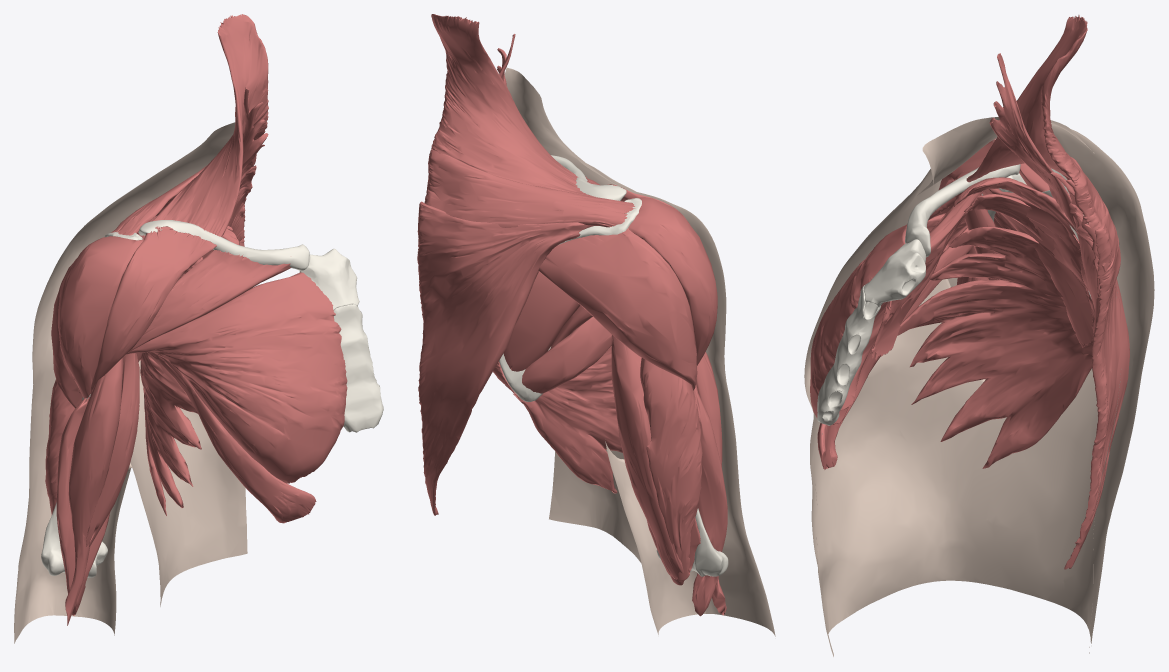
The model's file is shoulder-right.c07667bede.glb.
3 renders of one model, left to right at view 1: azimuth 30°, elevation 25°; view 2: azimuth 150°, elevation 25°; view 3: azimuth 270°, elevation 25°, orthographic. The views are drawn at different scales.
Visible parts, largest first — view 1: skin, sternocostal_part_of_right_pectoralis_major, descending_part_of_right_trapezius, clavicular_part_of_right_deltoid, acromial_part_of_right_deltoid, long_head_of_right_biceps_brachii, right_serratus_anterior, clavicular_part_of_right_pectoralis_major, abdominal_part_of_right_pectoralis_major, body_of_sternum, short_head_of_right_biceps_brachii, right_brachialis (+8 smaller); view 2: ascending_part_of_right_trapezius, skin, spinal_part_of_right_deltoid, descending_part_of_right_trapezius, transverse_part_of_right_trapezius, lateral_head_of_right_triceps_brachii, right_serratus_anterior, acromial_part_of_right_deltoid, long_head_of_right_triceps_brachii, right_infraspinatus_muscle, right_brachialis, right_teres_major (+5 smaller); view 3: skin, right_serratus_anterior, ascending_part_of_right_trapezius, sternocostal_part_of_right_pectoralis_major, descending_part_of_right_trapezius, right_subscapularis, body_of_sternum, right_levator_scapulae, right_pectoralis_minor, manubrium, abdominal_part_of_right_pectoralis_major, right_clavicle (+4 smaller).
Part boxes in pixels (x1,y1,x2,y2): skin: [14, 122, 247, 643]; sternocostal_part_of_right_pectoralis_major: [126, 272, 347, 483]; descending_part_of_right_trapezius: [152, 14, 268, 236]; clavicular_part_of_right_deltoid: [90, 226, 216, 395]; acromial_part_of_right_deltoid: [58, 236, 143, 398]; long_head_of_right_biceps_brachii: [65, 358, 123, 625]; right_serratus_anterior: [140, 226, 240, 515]; clavicular_part_of_right_pectoralis_major: [128, 250, 290, 352]; abdominal_part_of_right_pectoralis_major: [147, 351, 316, 523]; body_of_sternum: [333, 304, 383, 432]; short_head_of_right_biceps_brachii: [86, 353, 139, 546]; right_brachialis: [56, 396, 110, 615]; ascending_part_of_right_trapezius: [417, 201, 594, 515]; skin: [504, 67, 775, 636]; spinal_part_of_right_deltoid: [538, 228, 697, 390]; descending_part_of_right_trapezius: [430, 14, 595, 196]; transverse_part_of_right_trapezius: [418, 149, 635, 244]; lateral_head_of_right_triceps_brachii: [640, 358, 702, 581]; right_serratus_anterior: [498, 346, 622, 493]; acromial_part_of_right_deltoid: [628, 197, 717, 365]; long_head_of_right_triceps_brachii: [611, 335, 683, 579]; right_infraspinatus_muscle: [503, 272, 580, 371]; right_brachialis: [692, 384, 727, 616]; right_teres_major: [522, 317, 611, 393]; skin: [804, 117, 1154, 656]; right_serratus_anterior: [897, 177, 1094, 468]; ascending_part_of_right_trapezius: [1062, 157, 1129, 569]; sternocostal_part_of_right_pectoralis_major: [810, 213, 967, 424]; descending_part_of_right_trapezius: [966, 15, 1087, 185]; right_subscapularis: [982, 188, 1093, 347]; body_of_sternum: [817, 285, 880, 425]; right_levator_scapulae: [989, 53, 1076, 229]; right_pectoralis_minor: [870, 190, 984, 360]; manubrium: [863, 239, 925, 307]; abdominal_part_of_right_pectoralis_major: [817, 228, 973, 469]; right_clavicle: [905, 138, 1020, 257].
Bounding box in the file's own units: 0.3035 × 0.527 × 0.2668.
